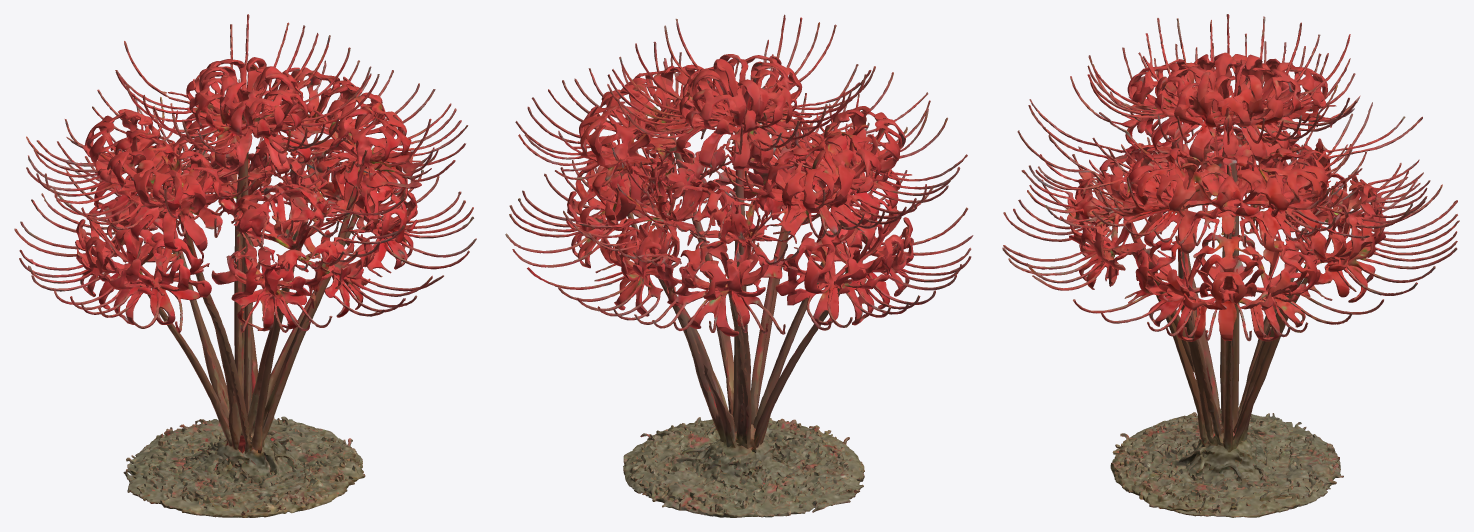
Rendered from spider-lily-v2.glb.
The picture shows the model from 3 angles, left to right: view 1: azimuth 30°, elevation 25°; view 2: azimuth 150°, elevation 25°; view 3: azimuth 270°, elevation 25°; orthographic projection.
Parts seen in each view (by area): view 1: geometry_0; view 2: geometry_0; view 3: geometry_0.
Boxes of the visible parts, box(x1,y1,x2,y2) form: geometry_0: box(14, 14, 476, 517); geometry_0: box(505, 14, 973, 517); geometry_0: box(1002, 14, 1459, 517).
Bounding box in the file's own units: 0.5503 × 0.52 × 0.5275.
1 material, 1 textured.
